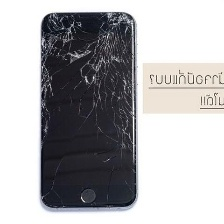phone: (34, 8, 141, 217)
